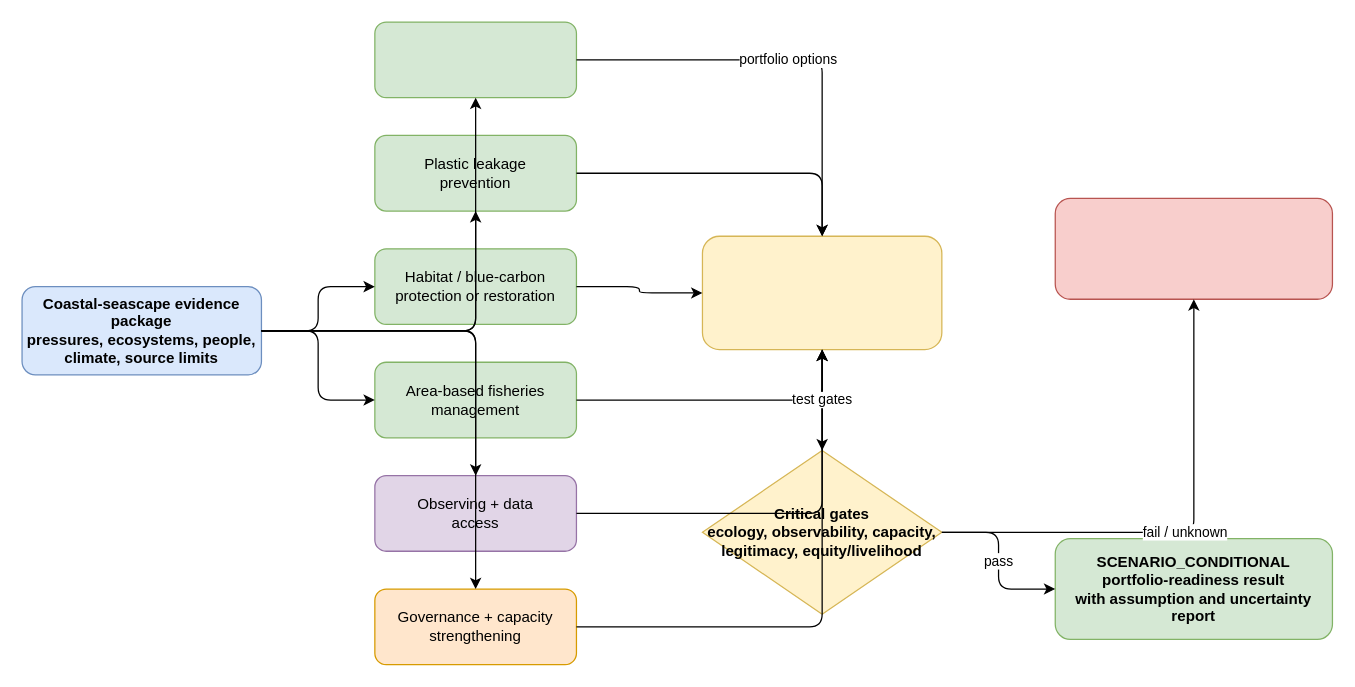
Image size: 1355x687. Some labels were removed from this diagram. The centre of each missing label's shape, as x and y in pixels:
"Climate scenarios and portfolio interactions" goes at point (821, 292).
"EQUITY_OR_CAPACITY_BLOCKED or EVIDENCE_OR_MODEL_ABSTAIN" goes at point (1193, 248).
"Nutrient source reduction" goes at point (475, 59).
